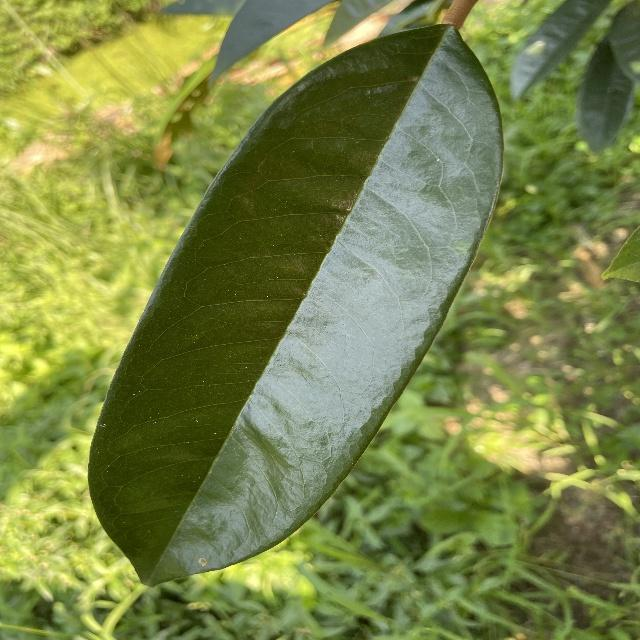No Disease: (75, 11, 509, 596)
